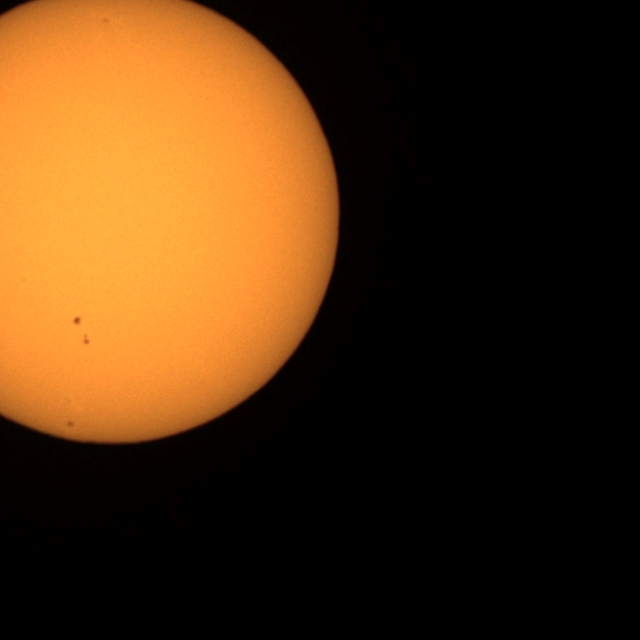sunspot: (65, 419, 76, 430), (82, 333, 91, 346), (72, 316, 82, 326), (102, 16, 110, 25)
